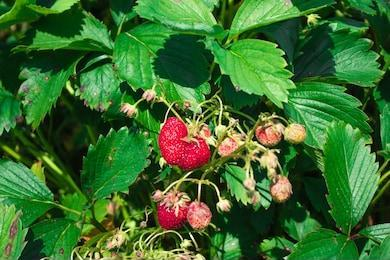Fresa: (155, 112, 215, 176), (155, 190, 190, 235)
